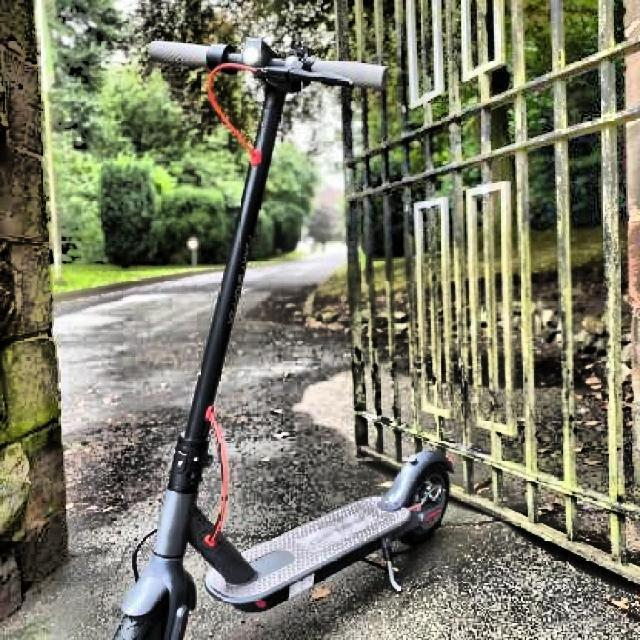bike: (86, 16, 457, 640)
